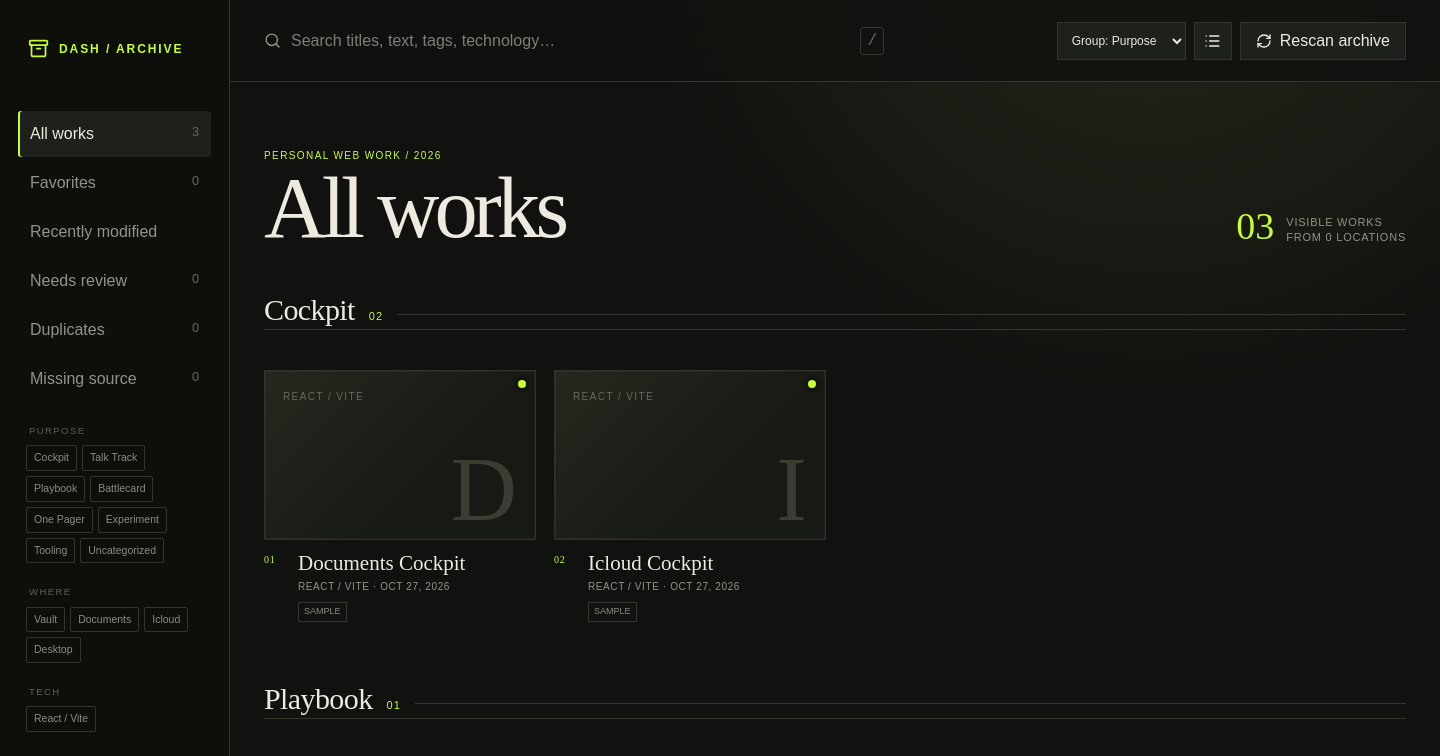
Test case: dashboard archive interface › ANDs chips selected from different facet groups
This screenshot has width=1440, height=756.
Expected: the button "Documents Cockpit" is shown, [298,552,465,574]
Step 1. Click the button "Cockpit" → (52, 458), box [26,445,77,471]
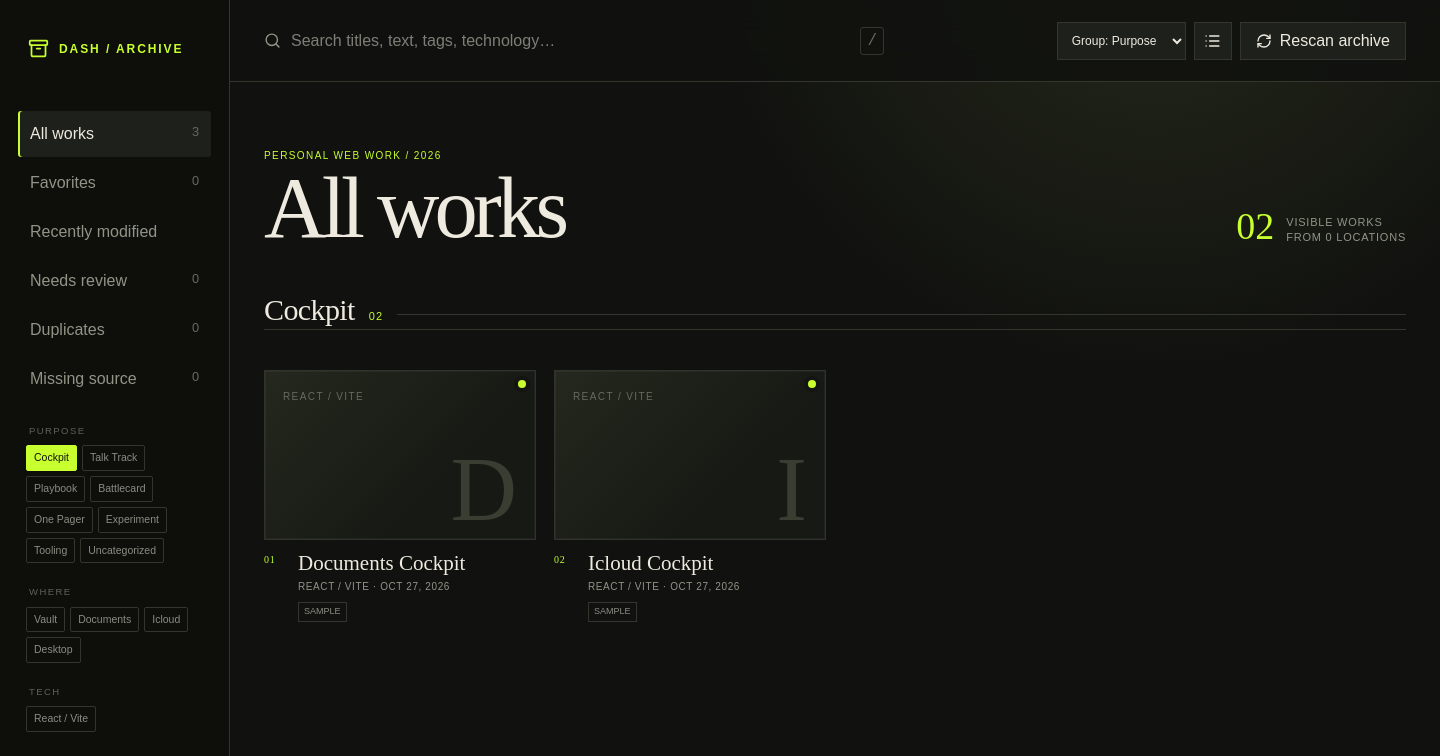
Step 2. Click the button "Icloud" → (166, 619), box [144,606,188,632]
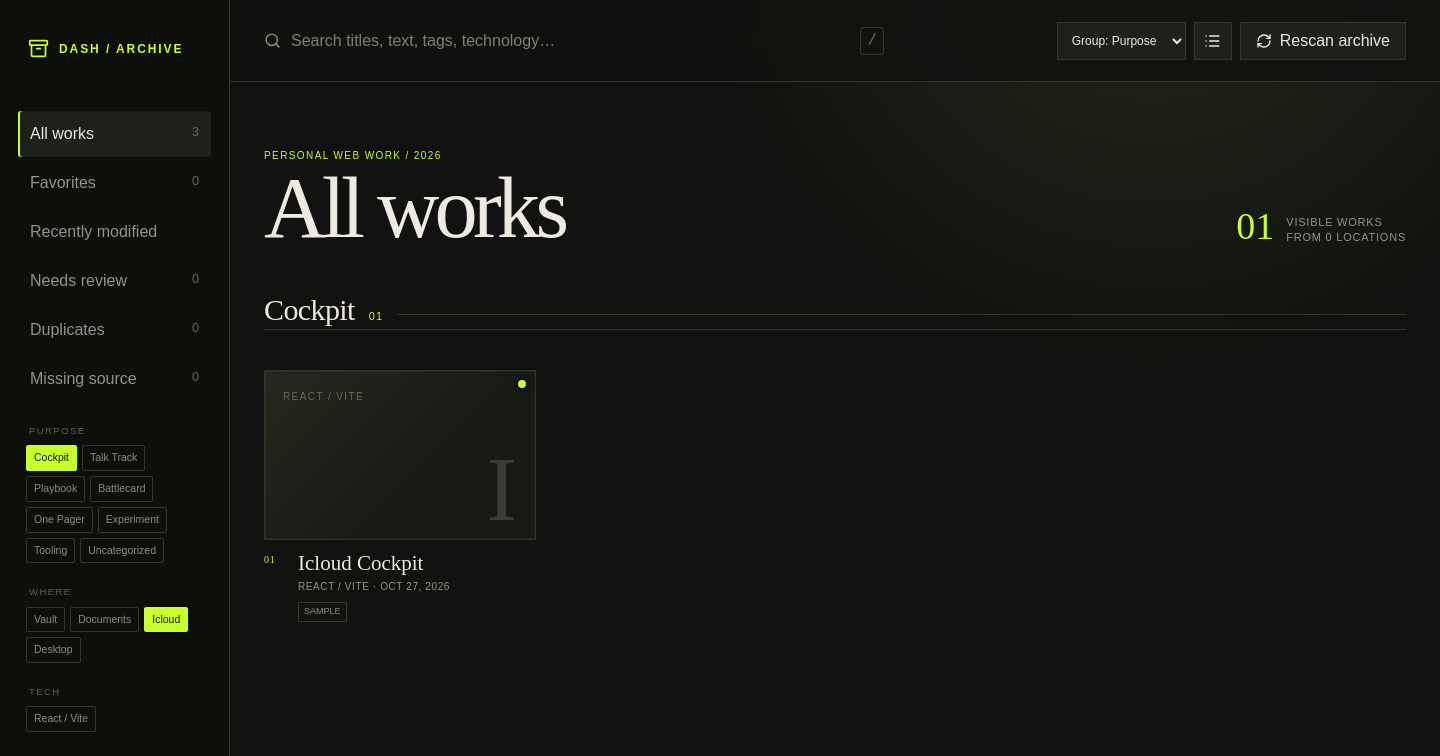
Expected: the button "Icloud Cockpit" is shown, [298,552,423,574]
Result: the button "Documents Cockpit" is gone
